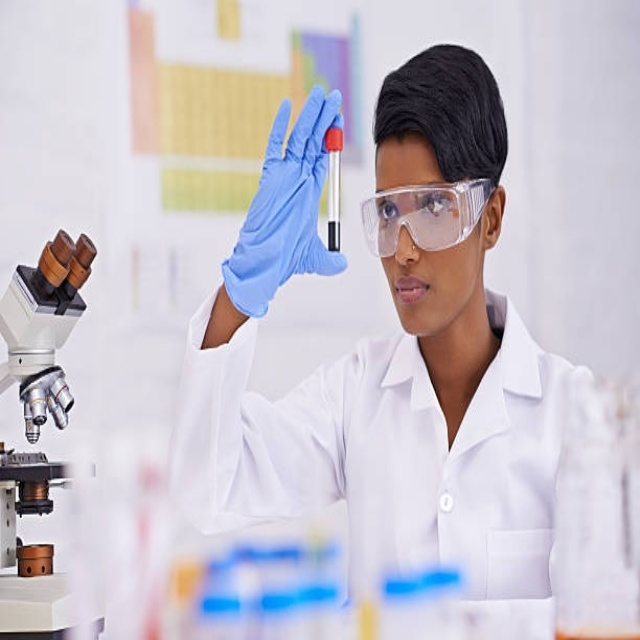Gafas: (361, 179, 494, 257)
Guantes: (221, 84, 351, 320)
Sin_mascara: (391, 268, 440, 328)
